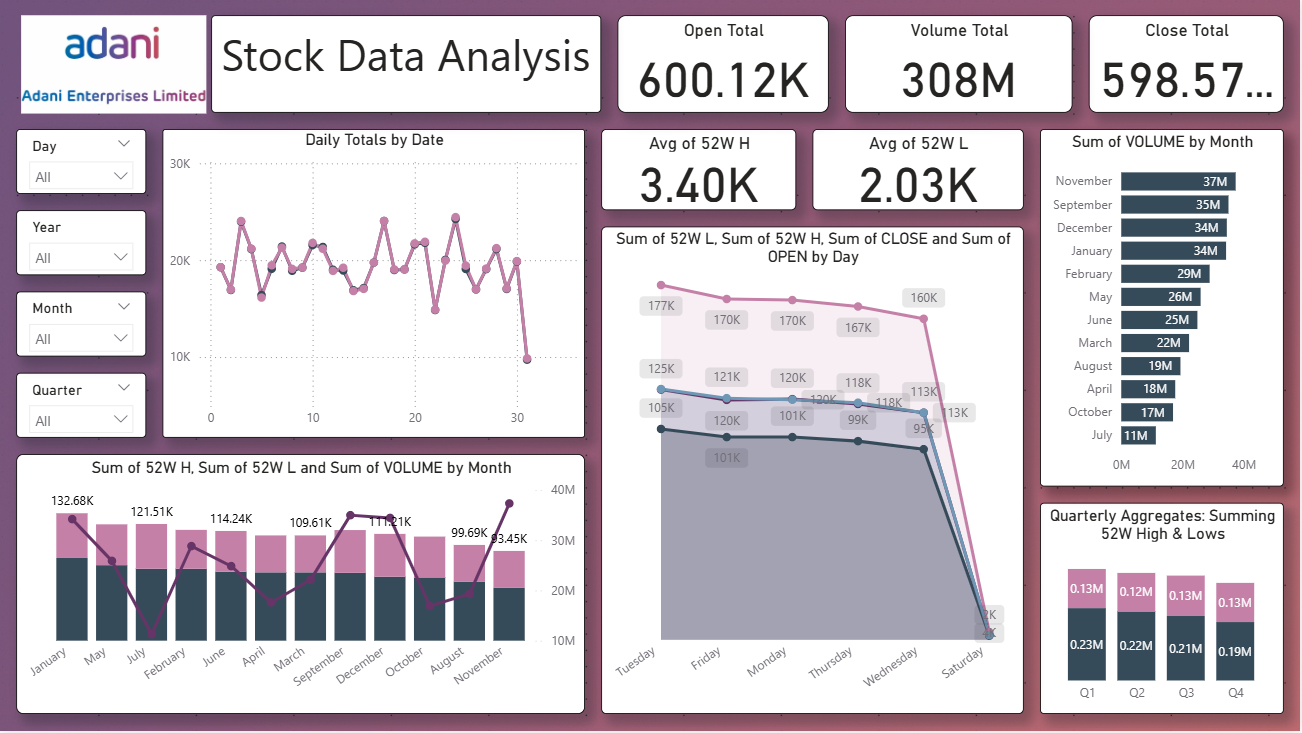

Layout of this report page (visuals, bound fields, positions):
{"tool":"powerbi","page":{"name":"Page 1","canvas":[1280,720],"ordinal":0},"visuals":[{"type":"slicer","fields":{"Values":["Quote-Equity-ADANIENT-EQ-20-12-2024-20-12-2025.Day"]},"box":[16,128,128,64],"z":0},{"type":"slicer","fields":{"Values":["Quote-Equity-ADANIENT-EQ-20-12-2024-20-12-2025.Quarter"]},"box":[16,368,128,64],"z":1},{"type":"slicer","fields":{"Values":["Quote-Equity-ADANIENT-EQ-20-12-2024-20-12-2025.Year"]},"box":[16,208,128,64],"z":2},{"type":"slicer","fields":{"Values":["Quote-Equity-ADANIENT-EQ-20-12-2024-20-12-2025.Month"]},"box":[16,288,128,64],"z":3},{"type":"card","title":"Avg of 52W H","fields":{"Values":["Avg(Quote-Equity-ADANIENT-EQ-20-12-2024-20-12-2025.52W H)"]},"box":[592,128,192,80],"z":4},{"type":"card","title":"Avg of 52W L","fields":{"Values":["Avg(Quote-Equity-ADANIENT-EQ-20-12-2024-20-12-2025.52W L)"]},"box":[800,128,208,80],"z":5},{"type":"card","title":"Close Total","fields":{"Values":["Sum(Quote-Equity-ADANIENT-EQ-20-12-2024-20-12-2025.CLOSE)"]},"box":[1072,16,192,96],"z":6},{"type":"card","title":"Open Total","fields":{"Values":["Sum(Quote-Equity-ADANIENT-EQ-20-12-2024-20-12-2025.OPEN)"]},"box":[608,16,208,96],"z":7},{"type":"card","title":"Volume Total","fields":{"Values":["Sum(Quote-Equity-ADANIENT-EQ-20-12-2024-20-12-2025.VOLUME)"]},"box":[832,16,224,96],"z":8},{"type":"columnChart","title":"Quarterly Aggregates: Summing 52W High & Lows","fields":{"Y":["Sum(Quote-Equity-ADANIENT-EQ-20-12-2024-20-12-2025.52W H)","Sum(Quote-Equity-ADANIENT-EQ-20-12-2024-20-12-2025.52W L)"],"Category":["Quote-Equity-ADANIENT-EQ-20-12-2024-20-12-2025.Quarter"]},"box":[1024,496,240,208],"z":9},{"type":"lineStackedColumnComboChart","fields":{"Y":["Sum(Quote-Equity-ADANIENT-EQ-20-12-2024-20-12-2025.52W H)","Sum(Quote-Equity-ADANIENT-EQ-20-12-2024-20-12-2025.52W L)"],"Category":["Quote-Equity-ADANIENT-EQ-20-12-2024-20-12-2025.Month"],"Y2":["Sum(Quote-Equity-ADANIENT-EQ-20-12-2024-20-12-2025.VOLUME)"]},"box":[16,448,560,256],"z":10},{"type":"lineChart","title":"Daily Totals by Date","fields":{"Category":["Quote-Equity-ADANIENT-EQ-20-12-2024-20-12-2025.DATE.Variation.Date Hierarchy.Day"],"Y":["Sum(Quote-Equity-ADANIENT-EQ-20-12-2024-20-12-2025.CLOSE)","Sum(Quote-Equity-ADANIENT-EQ-20-12-2024-20-12-2025.OPEN)"]},"box":[160,128,416,304],"z":11},{"type":"lineChart","fields":{"Y":["Sum(Quote-Equity-ADANIENT-EQ-20-12-2024-20-12-2025.52W L)","Sum(Quote-Equity-ADANIENT-EQ-20-12-2024-20-12-2025.52W H)","Sum(Quote-Equity-ADANIENT-EQ-20-12-2024-20-12-2025.CLOSE)","Sum(Quote-Equity-ADANIENT-EQ-20-12-2024-20-12-2025.OPEN)"],"Category":["Quote-Equity-ADANIENT-EQ-20-12-2024-20-12-2025.Day"]},"box":[592,224,416,480],"z":12},{"type":"clusteredBarChart","fields":{"Category":["Quote-Equity-ADANIENT-EQ-20-12-2024-20-12-2025.Month"],"Y":["Sum(Quote-Equity-ADANIENT-EQ-20-12-2024-20-12-2025.VOLUME)"]},"box":[1024,128,240,352],"z":13},{"type":"image","box":[16,0,192,128],"z":15},{"type":"textbox","box":[208,16,384,96],"z":16}]}

Visuals, with their boxes in screenshot pixels (x1, y1, x2, y2), scaled from the page's 1280x720 canvas onto the 1302x733 screenshot:
slicer - Quote-Equity-ADANIENT-EQ-20-12-2024-20-12-2025.Day: <bbox>16, 130, 146, 195</bbox>
slicer - Quote-Equity-ADANIENT-EQ-20-12-2024-20-12-2025.Quarter: <bbox>16, 375, 146, 440</bbox>
slicer - Quote-Equity-ADANIENT-EQ-20-12-2024-20-12-2025.Year: <bbox>16, 212, 146, 277</bbox>
slicer - Quote-Equity-ADANIENT-EQ-20-12-2024-20-12-2025.Month: <bbox>16, 293, 146, 358</bbox>
"Avg of 52W H" card: <bbox>602, 130, 797, 212</bbox>
"Avg of 52W L" card: <bbox>814, 130, 1025, 212</bbox>
"Close Total" card: <bbox>1090, 16, 1286, 114</bbox>
"Open Total" card: <bbox>618, 16, 830, 114</bbox>
"Volume Total" card: <bbox>846, 16, 1074, 114</bbox>
"Quarterly Aggregates: Summing 52W High & Lows" columnChart: <bbox>1042, 505, 1286, 717</bbox>
lineStackedColumnComboChart - Sum(Quote-Equity-ADANIENT-EQ-20-12-2024-20-12-2025.52W H) x Sum(Quote-Equity-ADANIENT-EQ-20-12-2024-20-12-2025.52W L): <bbox>16, 456, 586, 717</bbox>
"Daily Totals by Date" lineChart: <bbox>163, 130, 586, 440</bbox>
lineChart - Sum(Quote-Equity-ADANIENT-EQ-20-12-2024-20-12-2025.52W L) x Sum(Quote-Equity-ADANIENT-EQ-20-12-2024-20-12-2025.52W H): <bbox>602, 228, 1025, 717</bbox>
clusteredBarChart - Quote-Equity-ADANIENT-EQ-20-12-2024-20-12-2025.Month x Sum(Quote-Equity-ADANIENT-EQ-20-12-2024-20-12-2025.VOLUME): <bbox>1042, 130, 1286, 489</bbox>
image: <bbox>16, 0, 212, 130</bbox>
textbox: <bbox>212, 16, 602, 114</bbox>
